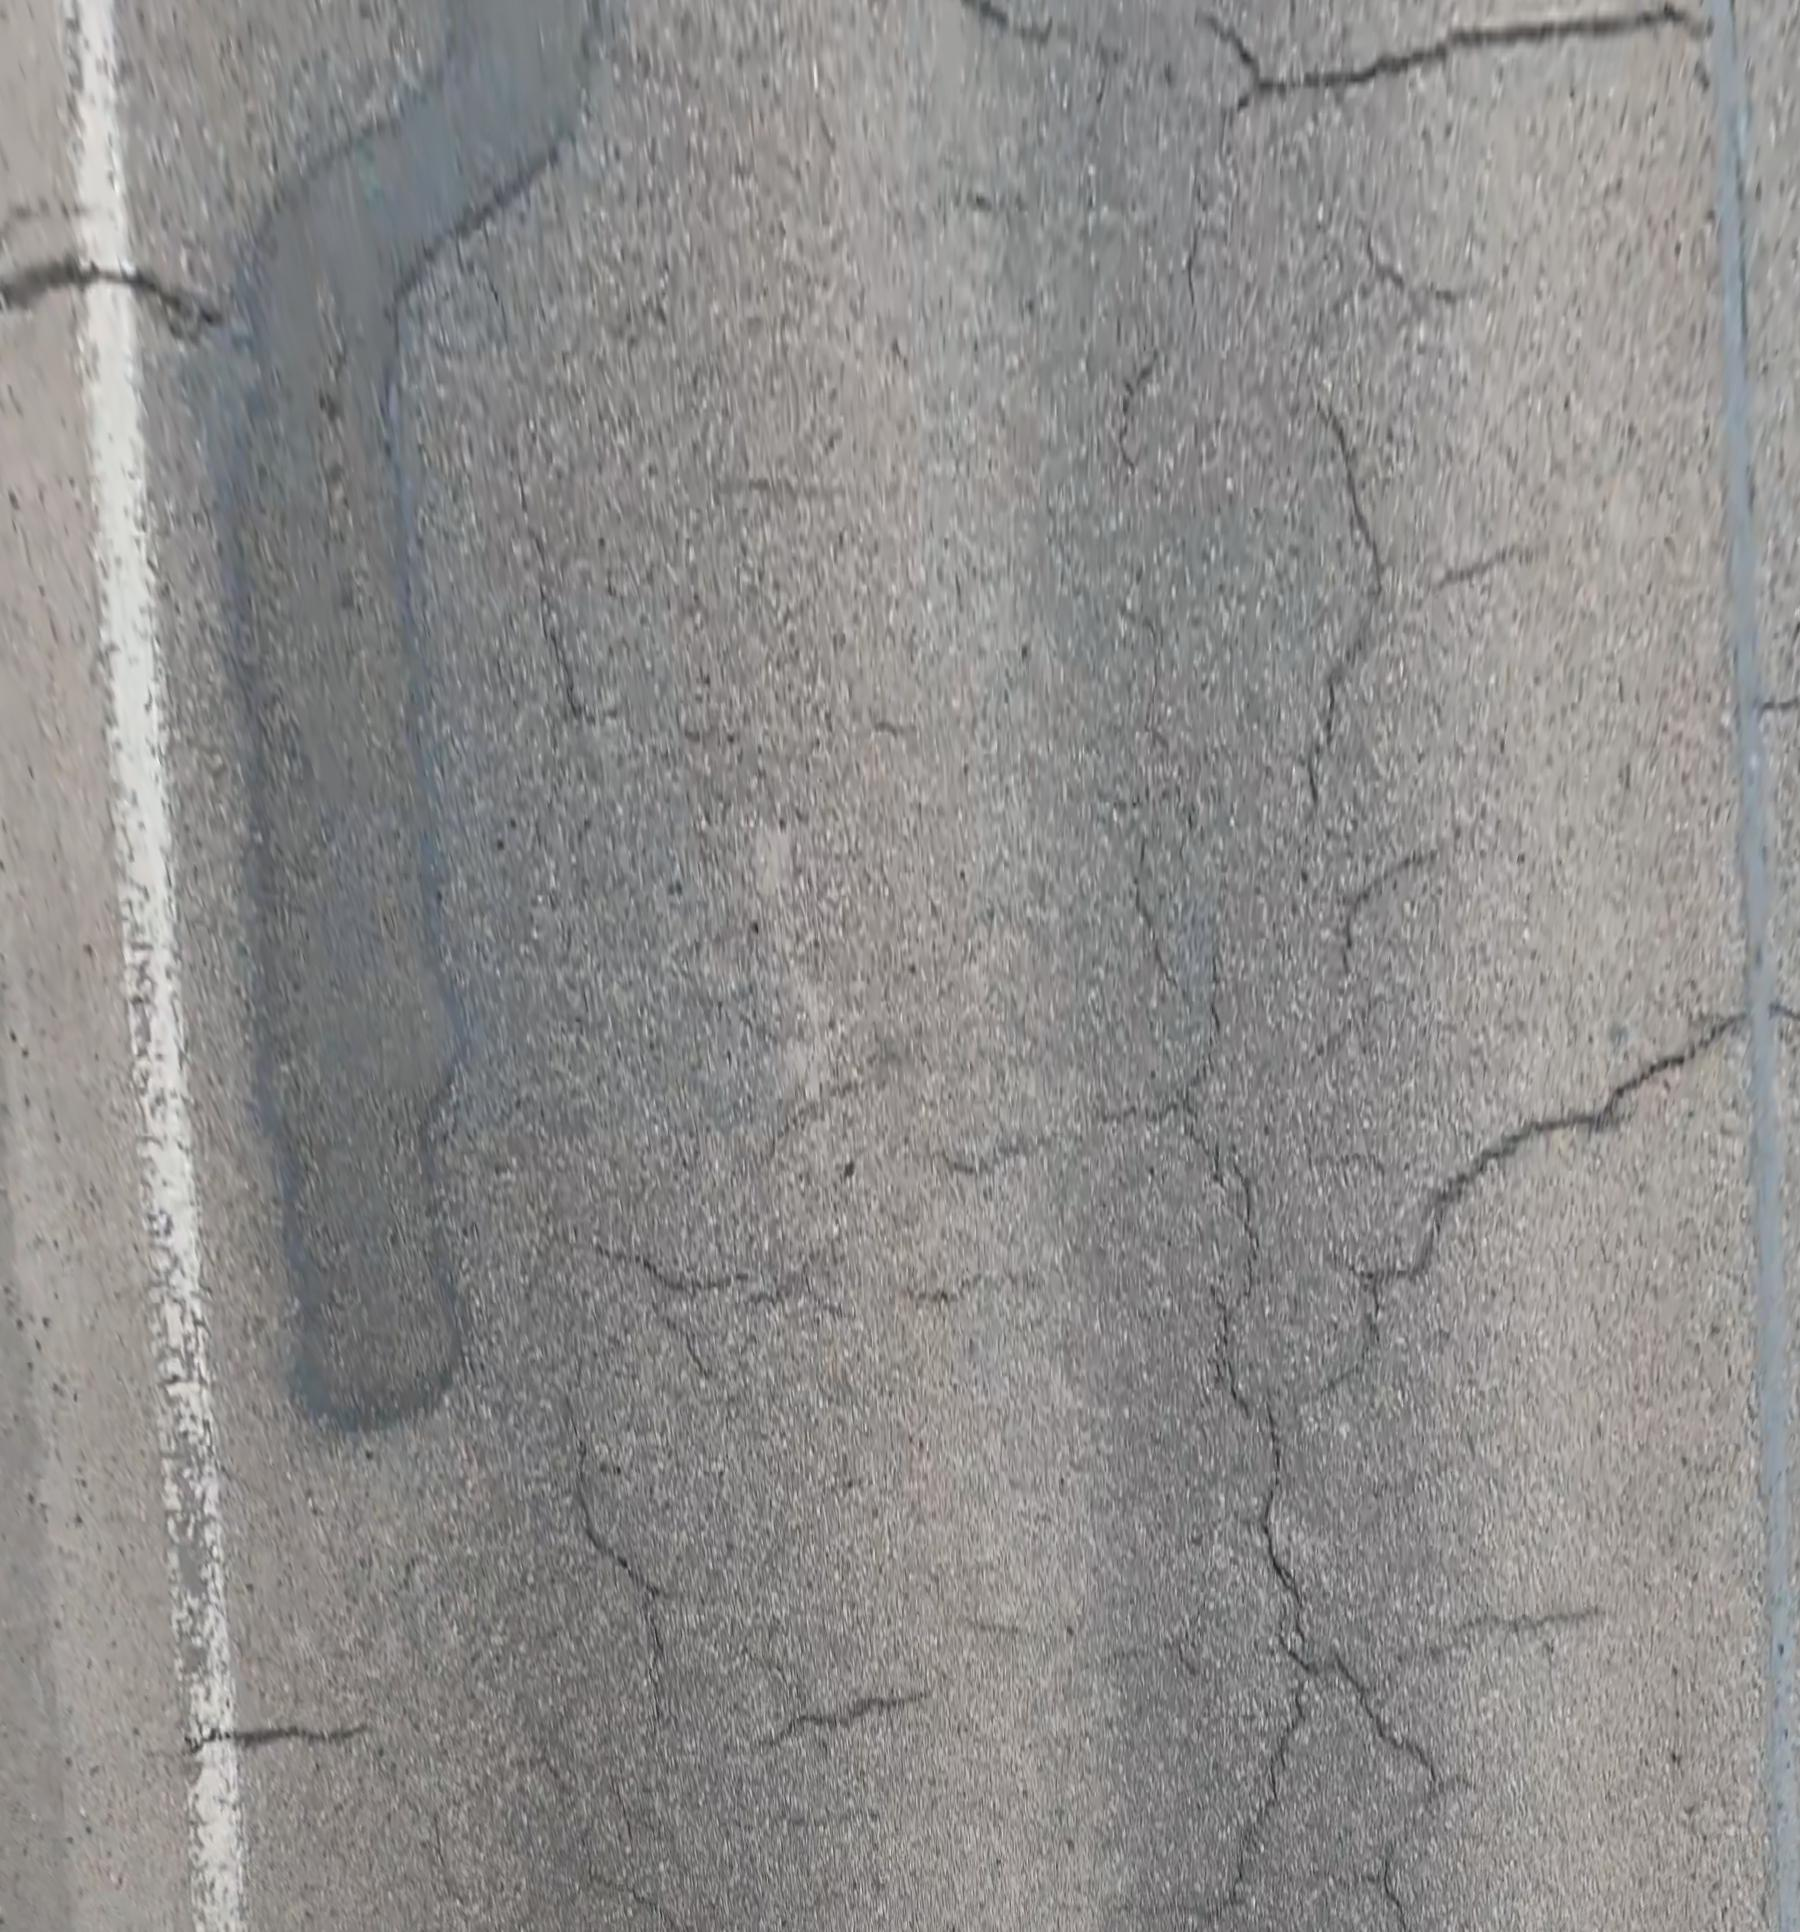pothole_patch_good: (195, 0, 607, 1430)
